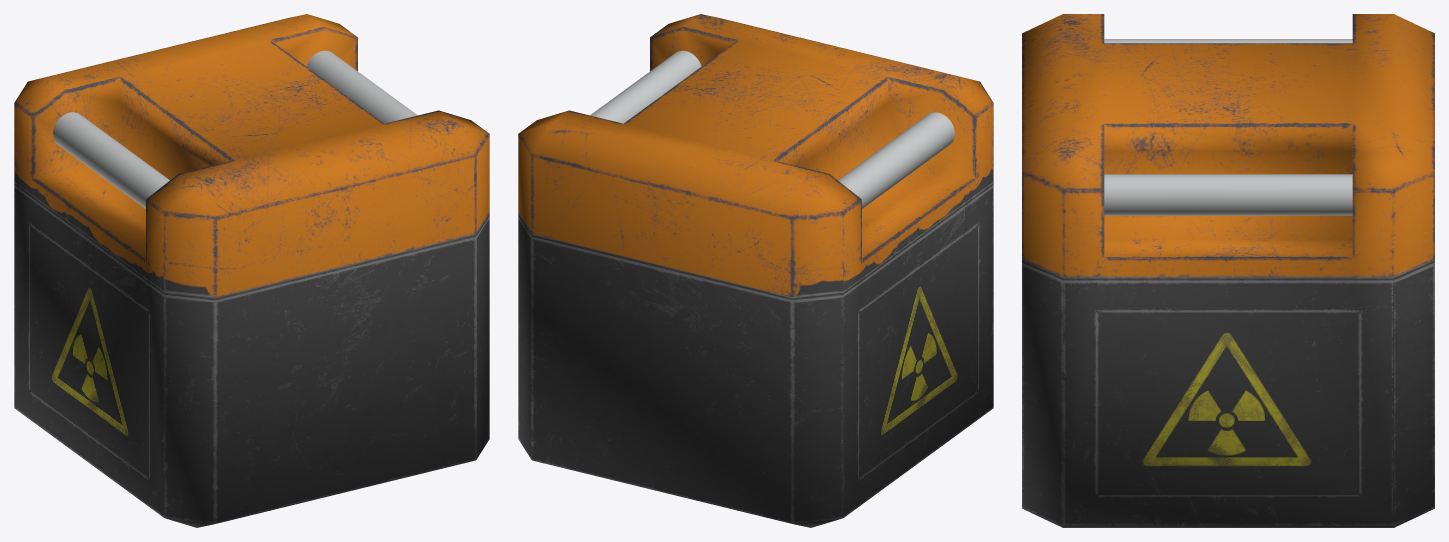
3 renders of one model, left to right at view 1: azimuth 30°, elevation 25°; view 2: azimuth 150°, elevation 25°; view 3: azimuth 270°, elevation 25°, orthographic. The views are drawn at different scales.
Visible parts, largest first — view 1: cube, cyl; view 2: cube, cyl; view 3: cube, cyl.
Part boxes in pixels (box(x1,y1,x2,y2)): cube: box(14, 14, 489, 527); cyl: box(53, 50, 417, 208); cube: box(518, 14, 993, 527); cyl: box(590, 50, 954, 208); cube: box(1022, 14, 1434, 527); cyl: box(1104, 39, 1352, 215).
Bounding box in the file's own units: 200 × 200 × 200.
Materials: 1 (1 with a texture image).
